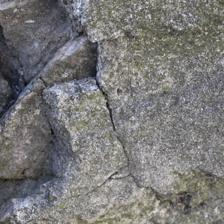Crack: (28, 49, 109, 158), (2, 114, 75, 166)
